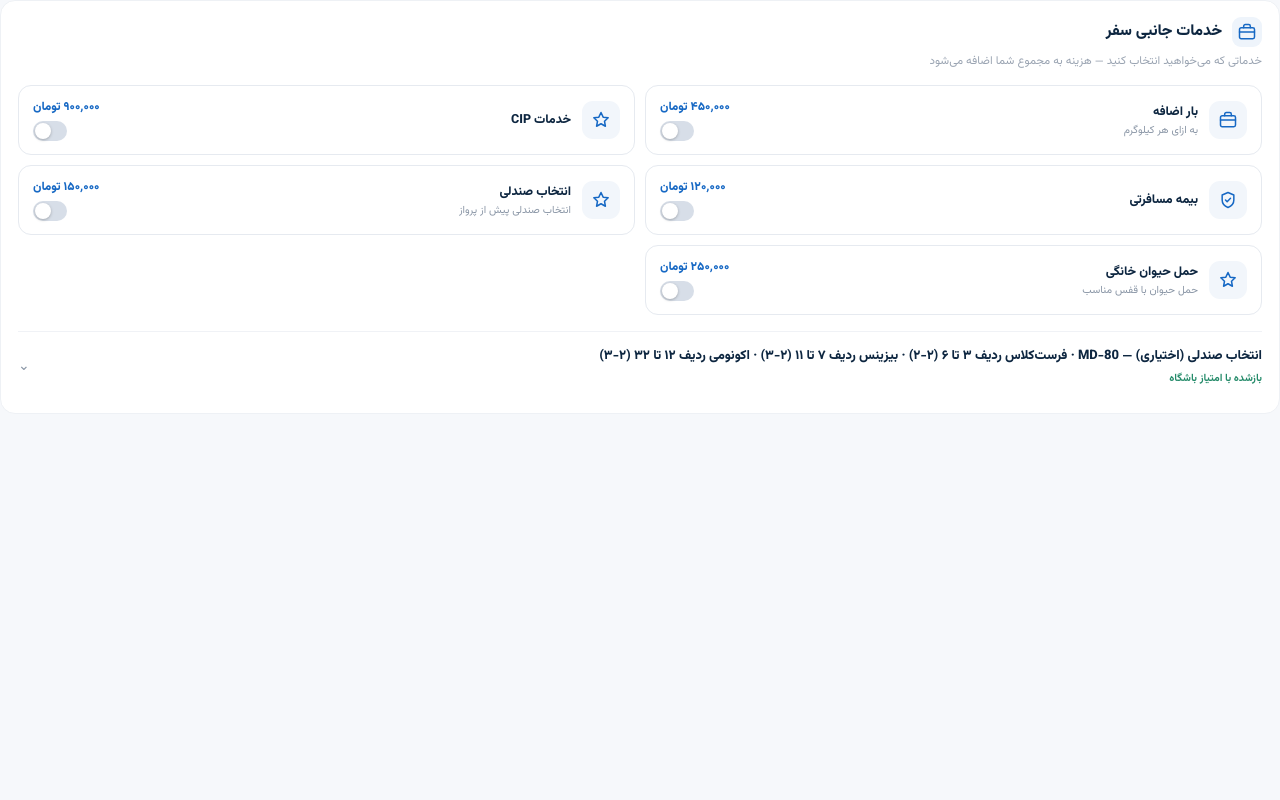
ExtrasStep — design parity › still shows all MD-80 seats when the API seat list is empty
This screenshot has width=1280, height=800.
Step 1. Click the button with test id "checkout-seat-toggle" → (640, 367), box [18,347,1262,387]
(page scrolled)
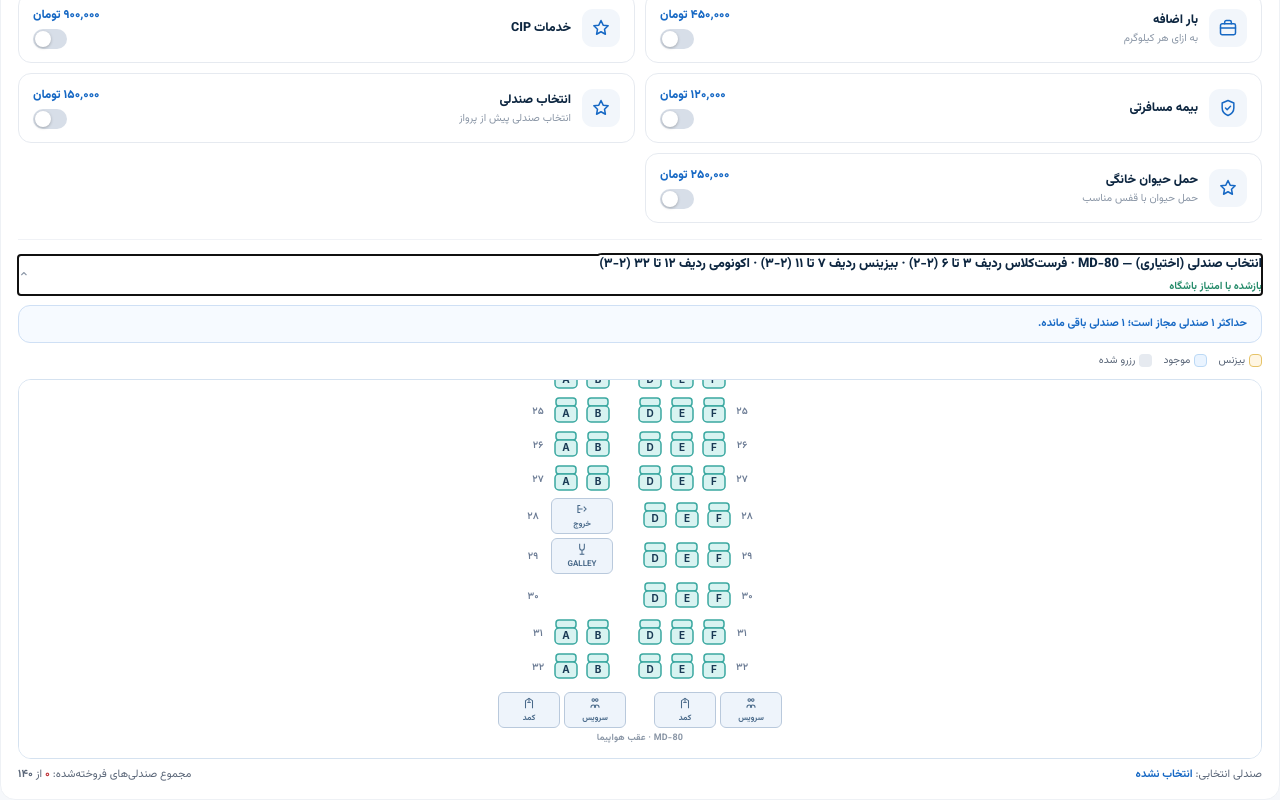
Expected: the button with test id "checkout-seat-32A" is shown, [552,652,580,682]
